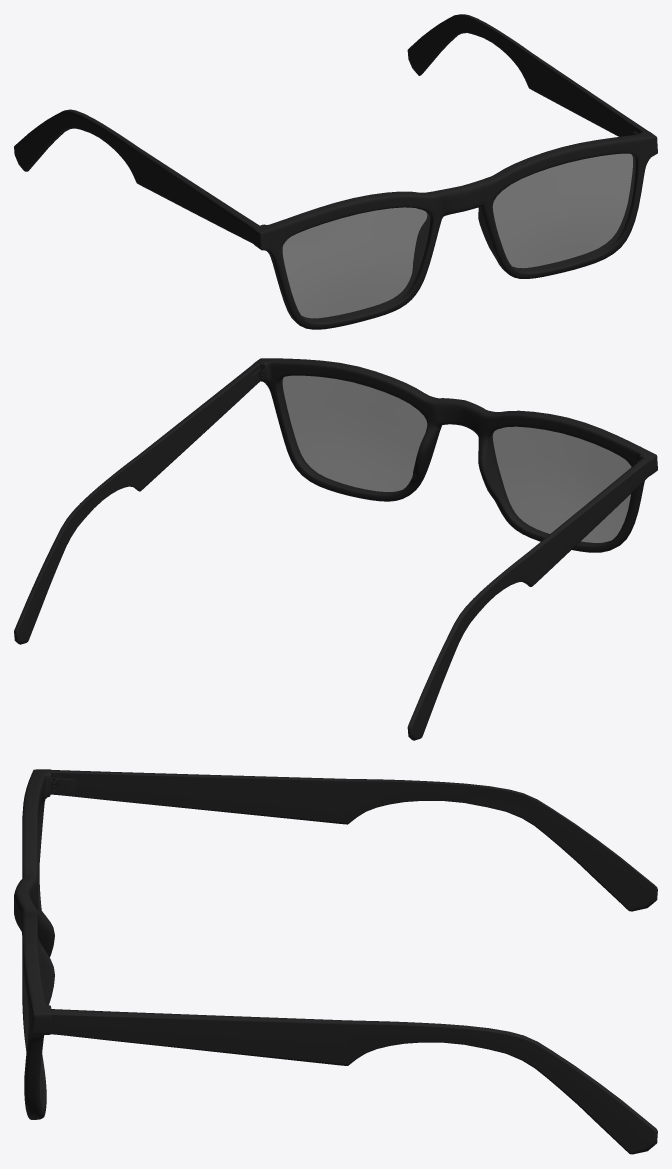
Rendered from inesta.glb.
3 renders of one model, top to bottom at view 1: azimuth 30°, elevation 25°; view 2: azimuth 150°, elevation 25°; view 3: azimuth 270°, elevation 25°, orthographic. The views are drawn at different scales.
Parts seen in each view (by area): view 1: Glass_03; view 2: Glass_03; view 3: Glass_03.
Part boxes in pixels (x1,y1,x2,y2): Glass_03: (14, 14, 657, 329); Glass_03: (14, 358, 657, 740); Glass_03: (14, 769, 657, 1154).
Size of the model in its own units: 0.1568 by 0.0471 by 0.1736.
1 material, 1 textured.
